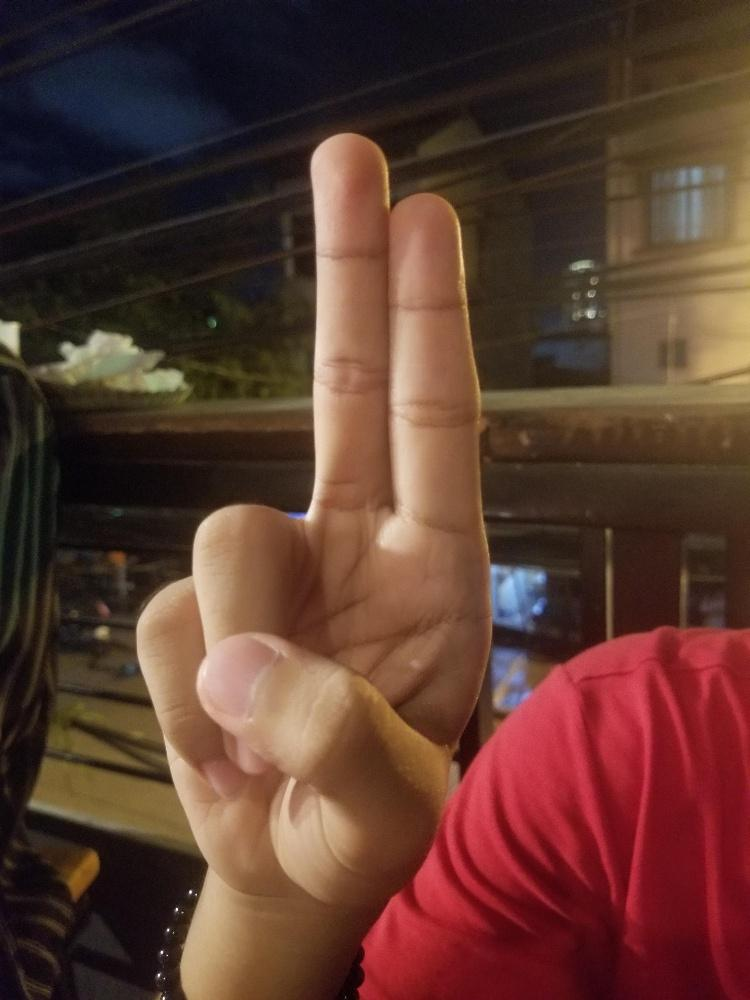u: (133, 133, 497, 910)
